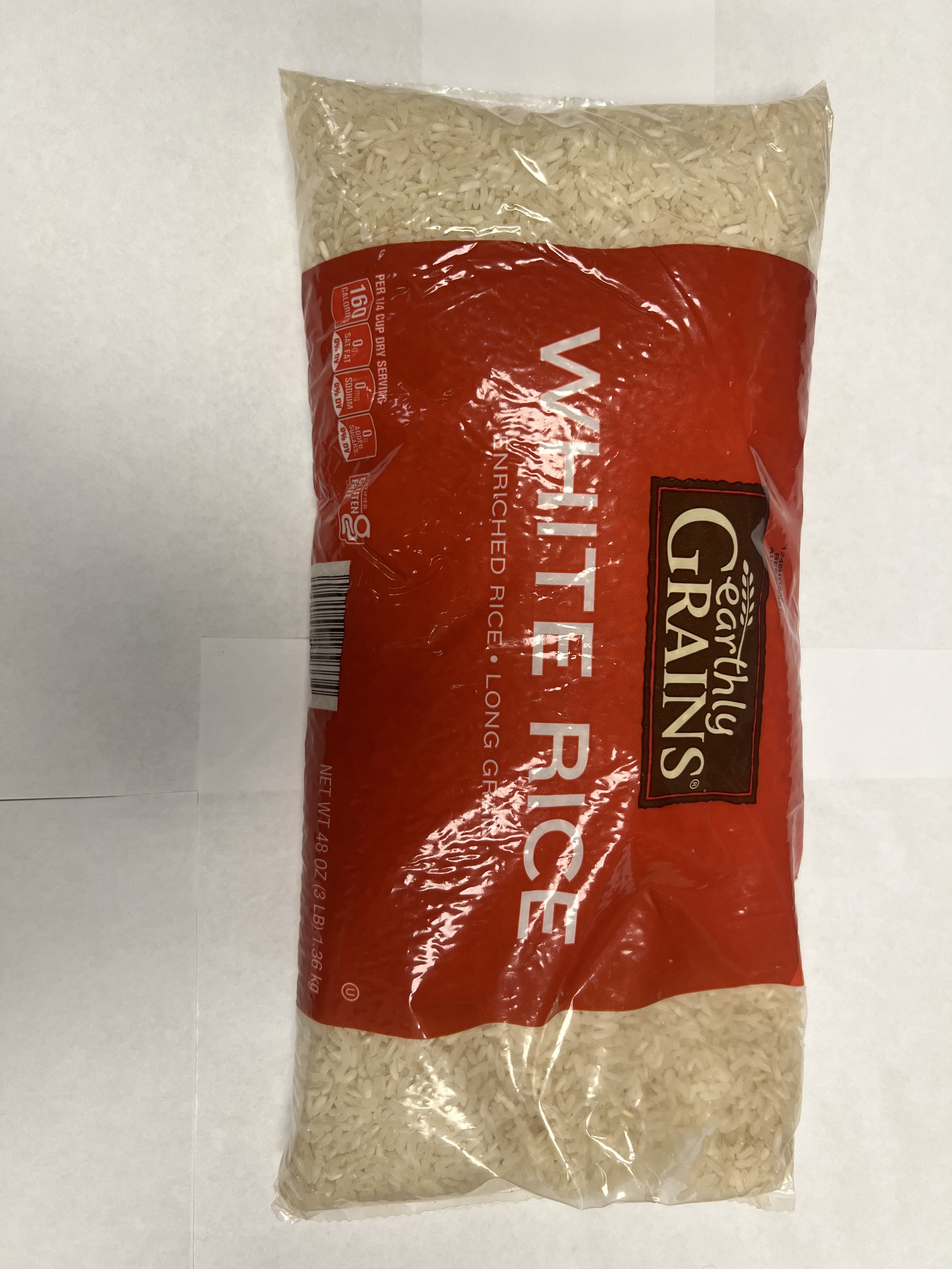packaged: (269, 63, 833, 1230)
